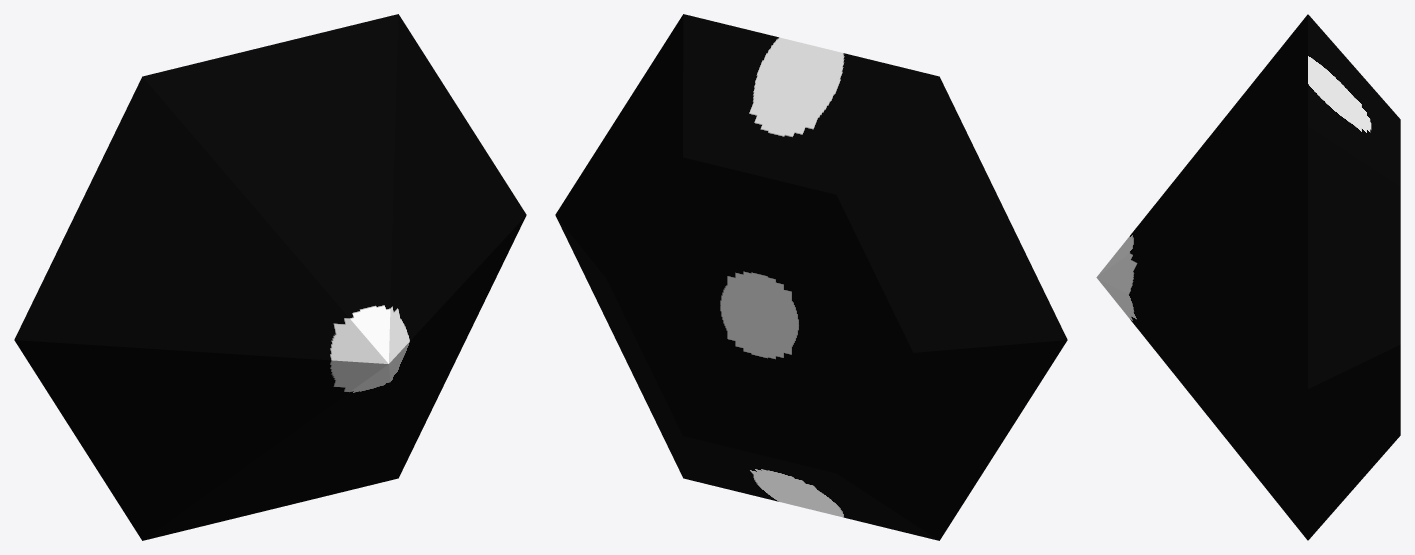
File: HexGem.fbx
3 renders of one model, left to right at view 1: azimuth 30°, elevation 25°; view 2: azimuth 150°, elevation 25°; view 3: azimuth 270°, elevation 25°, orthographic. The views are drawn at different scales.
Parts seen in each view (by area): view 1: HEX; view 2: HEX; view 3: HEX.
Boxes of the visible parts, x1,y1,x2,y2 form: HEX: (14, 14, 526, 540); HEX: (555, 14, 1067, 540); HEX: (1096, 14, 1400, 540).
Size of the model in its own units: 0.151 by 0.0868 by 0.1307.
